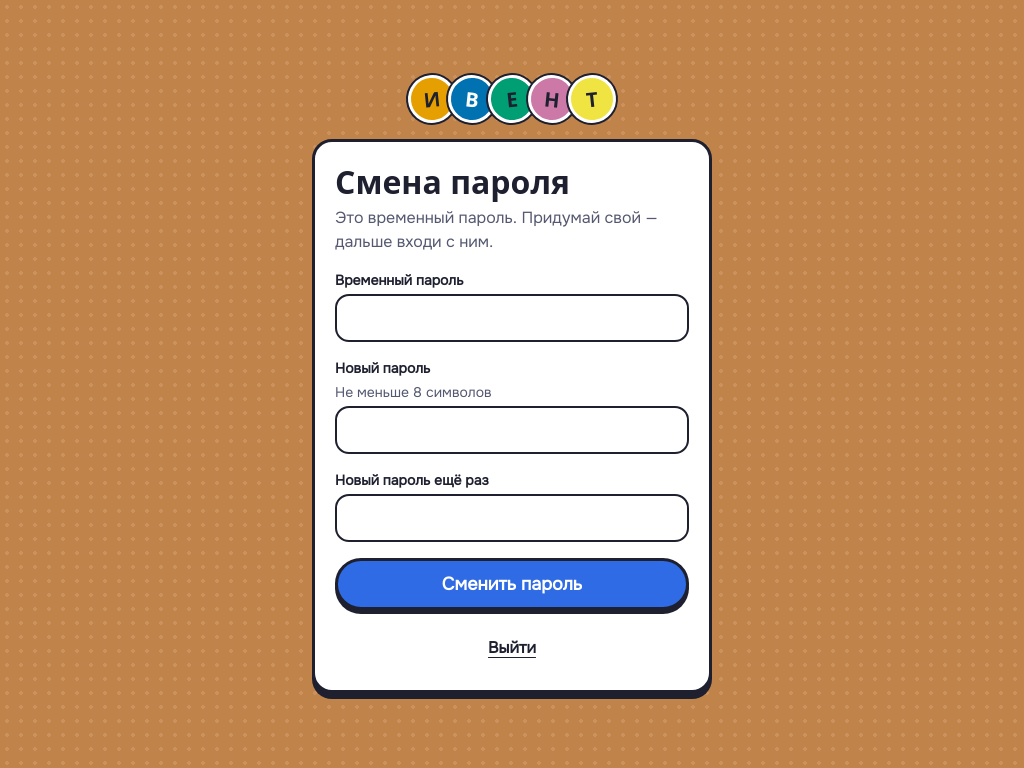
Password change › changes the password and lets the player in
Type "времянка-1" into the password field with test id "password-current". click: [512, 318]
box: [335, 294, 689, 342]
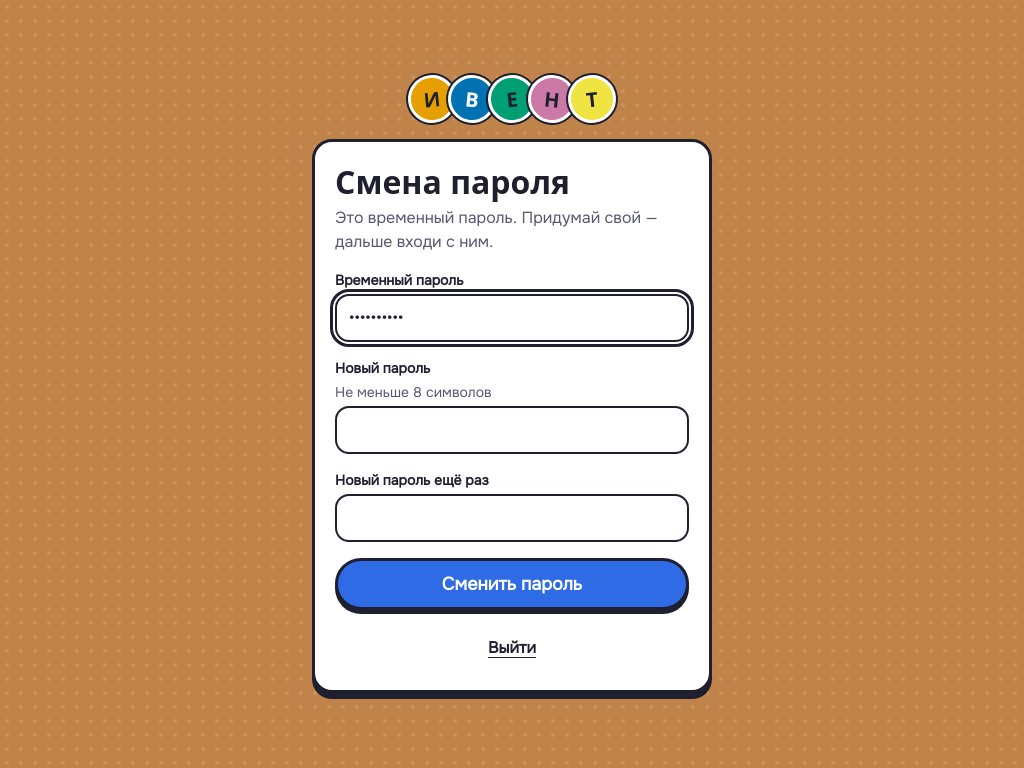
Type "свой-пароль-1" into the password field with test id "password-new". click: [512, 430]
box: [335, 406, 689, 454]
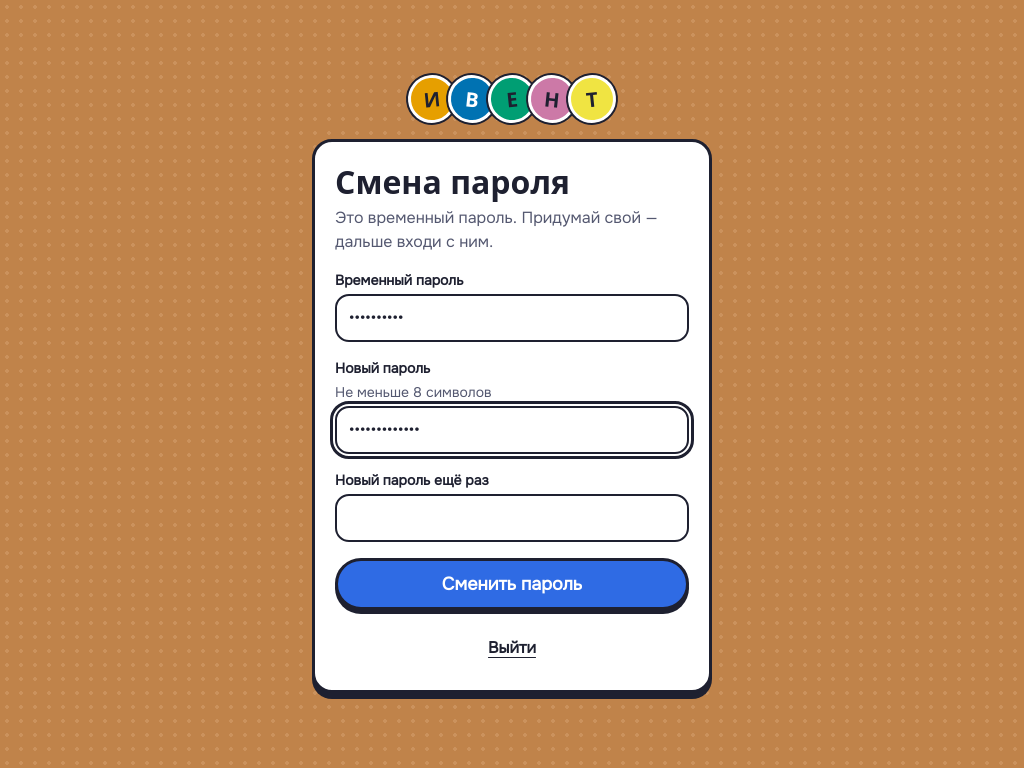
Type "свой-пароль-1" into the password field with test id "password-repeat". click: [512, 518]
box: [335, 494, 689, 542]
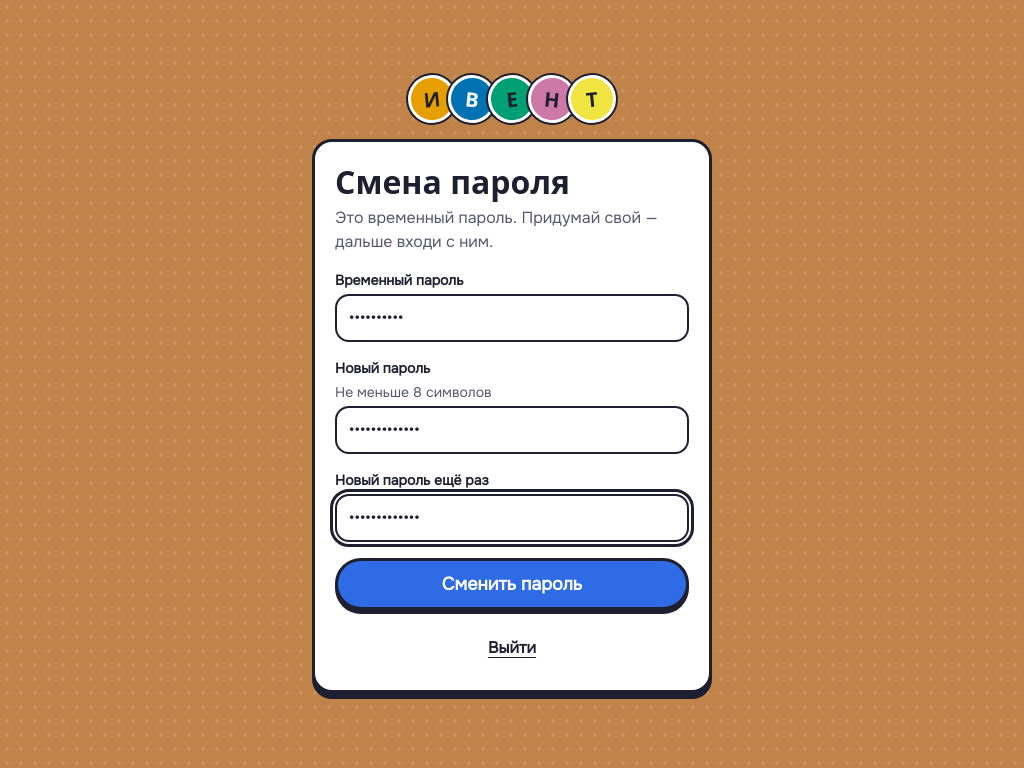
Click the button with test id "password-submit". click: [512, 584]
box: [335, 558, 689, 610]
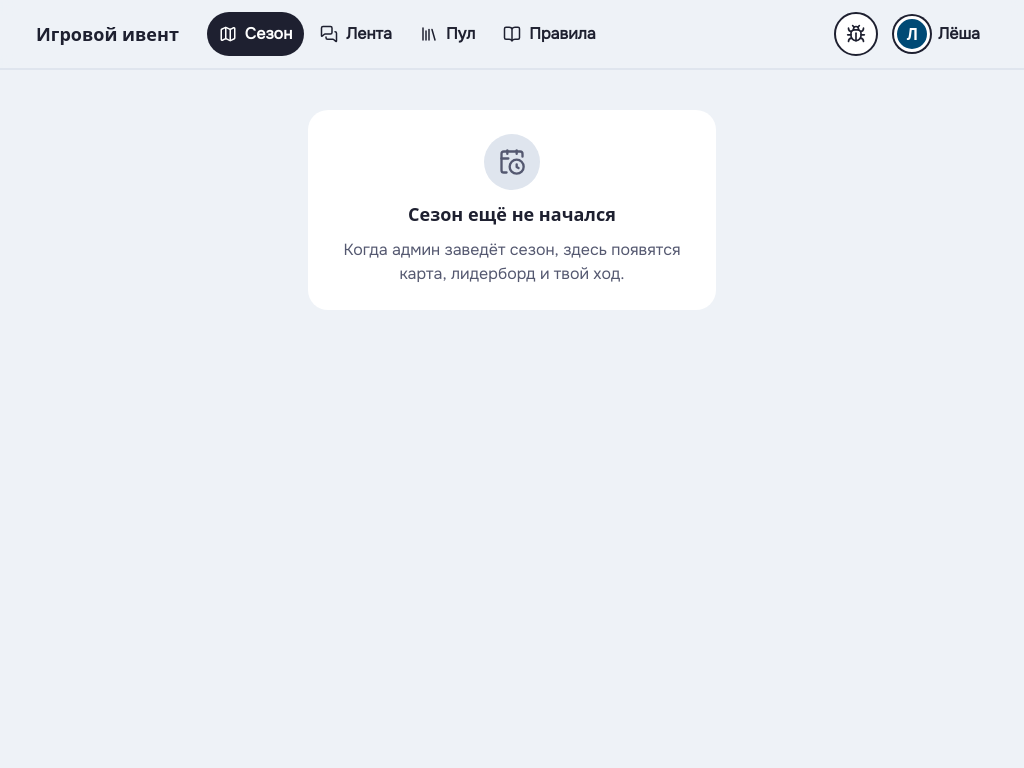
Expected: the element with test id "no-season" is shown, [292, 70, 732, 350]
